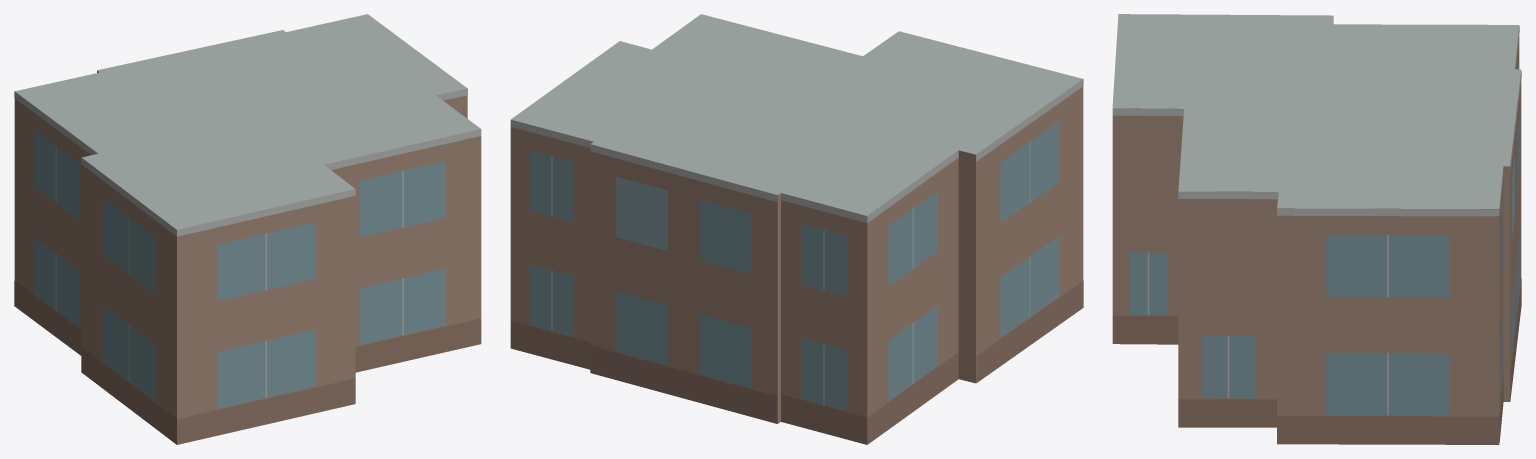
The model's file is survey-upis-32480408.glb.
3 renders of one model, left to right at view 1: azimuth 30°, elevation 25°; view 2: azimuth 150°, elevation 25°; view 3: azimuth 270°, elevation 25°, orthographic. The views are drawn at different scales.
Visible parts, largest first — view 1: survey-upis-32480408.tmp; view 2: survey-upis-32480408.tmp; view 3: survey-upis-32480408.tmp.
Boxes of the visible parts, x1=… form: survey-upis-32480408.tmp: x1=14, y1=14, x2=481, y2=444; survey-upis-32480408.tmp: x1=510, y1=14, x2=1083, y2=444; survey-upis-32480408.tmp: x1=1112, y1=14, x2=1521, y2=444.
Bounding box in the file's own units: 13.85 × 7.8 × 12.27.
